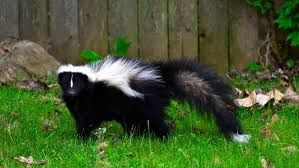skunk: (57, 61, 248, 142)
